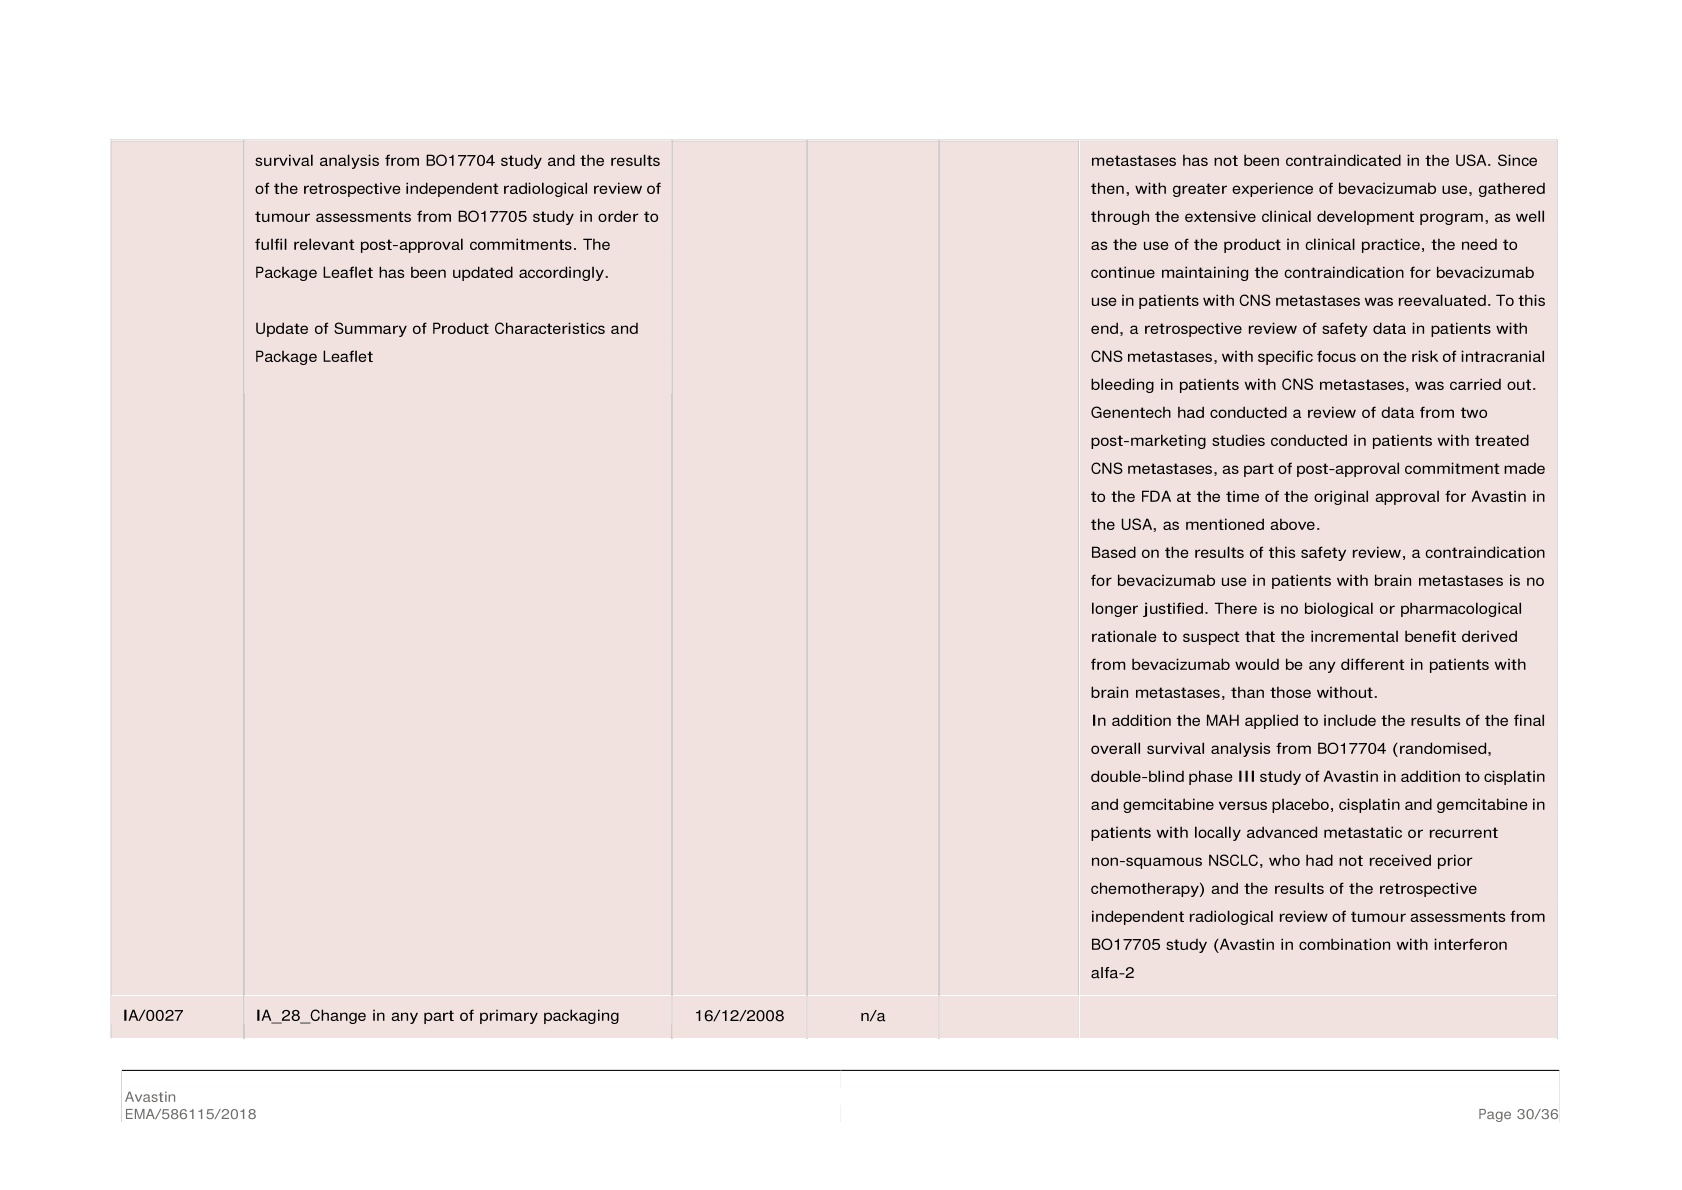full_lined: (111, 137, 1558, 1041)
